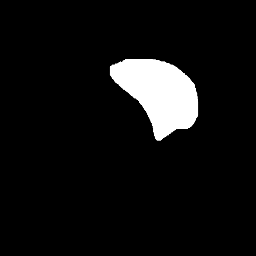mass: (109, 53, 195, 132)
